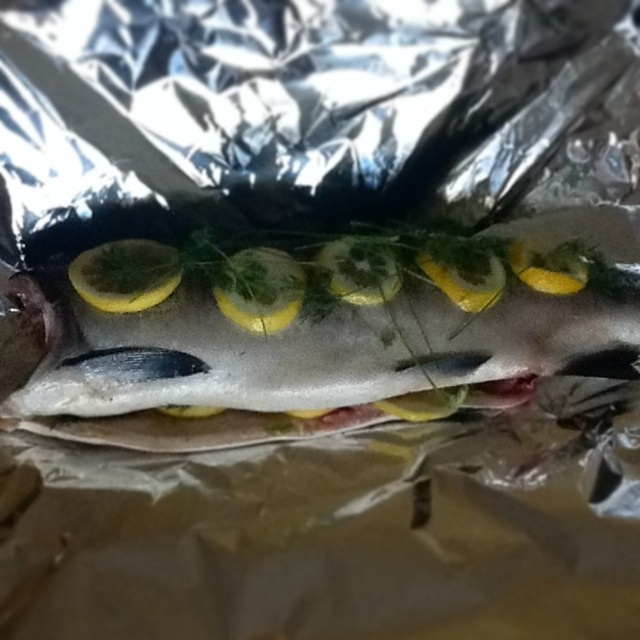Fish: (0, 205, 640, 419)
